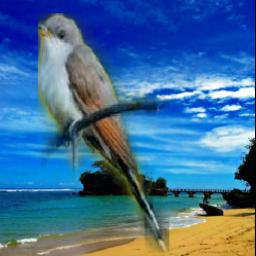Cuckoo: (38, 14, 169, 254)
